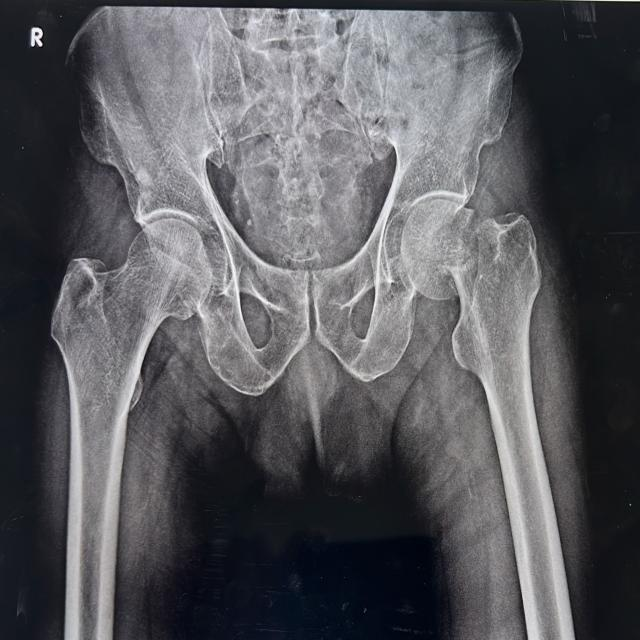left-neck: (441, 212, 542, 441), (400, 199, 476, 301)
normal-right: (52, 218, 213, 640)
